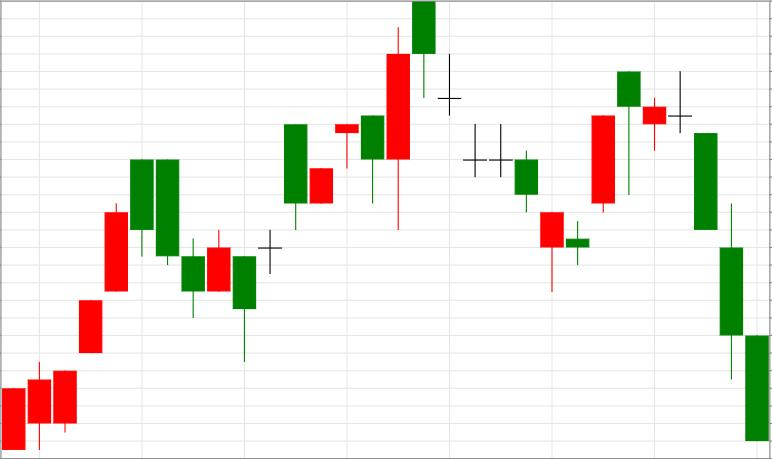hammer_rise: (411, 1, 563, 293)
hanging_man_fall: (541, 72, 640, 292)
three_black_crows_fall: (540, 71, 769, 440)
